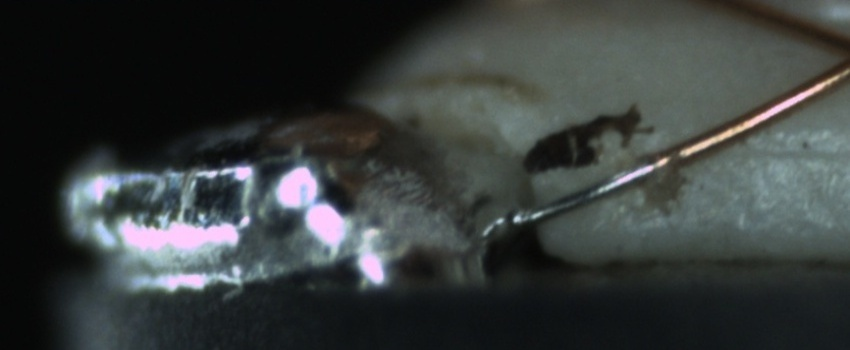DL: (731, 119, 850, 184)
TS: (501, 157, 665, 229)
TTCW: (508, 138, 683, 231)
